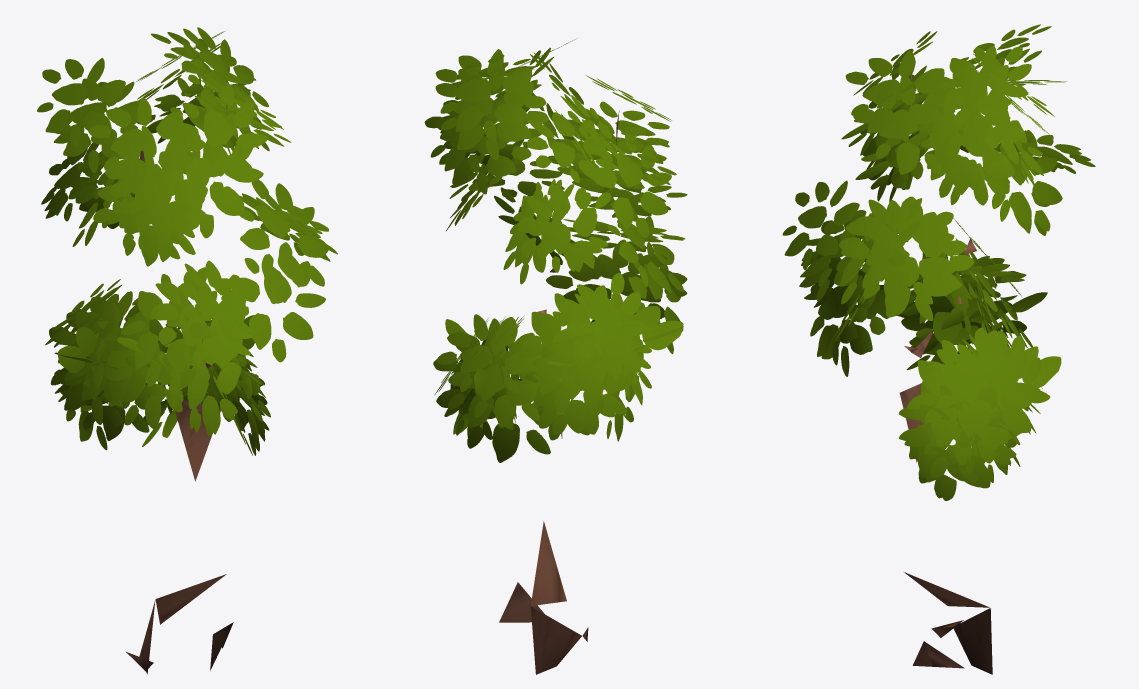
The model's file is jati-2-lod.glb.
The picture shows the model from 3 angles, left to right: view 1: azimuth 30°, elevation 25°; view 2: azimuth 150°, elevation 25°; view 3: azimuth 270°, elevation 25°; orthographic projection. The views are drawn at different scales.
Parts seen in each view (by area): view 1: CommonTree_3; view 2: CommonTree_3; view 3: CommonTree_3.
Part boxes in pixels (left/top/right/bottom): CommonTree_3: left=37, top=27, right=337, bottom=674; CommonTree_3: left=424, top=38, right=687, bottom=674; CommonTree_3: left=782, top=24, right=1095, bottom=674.
Bounding box in the file's own units: 5.09 × 10.45 × 5.25.
2 materials, 2 textured.
